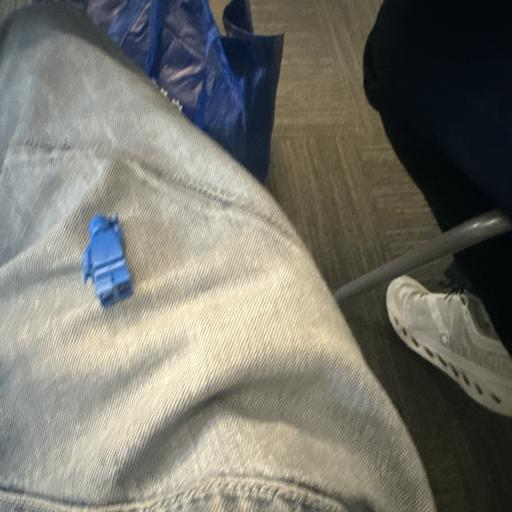Minifig: (82, 215, 132, 307)
